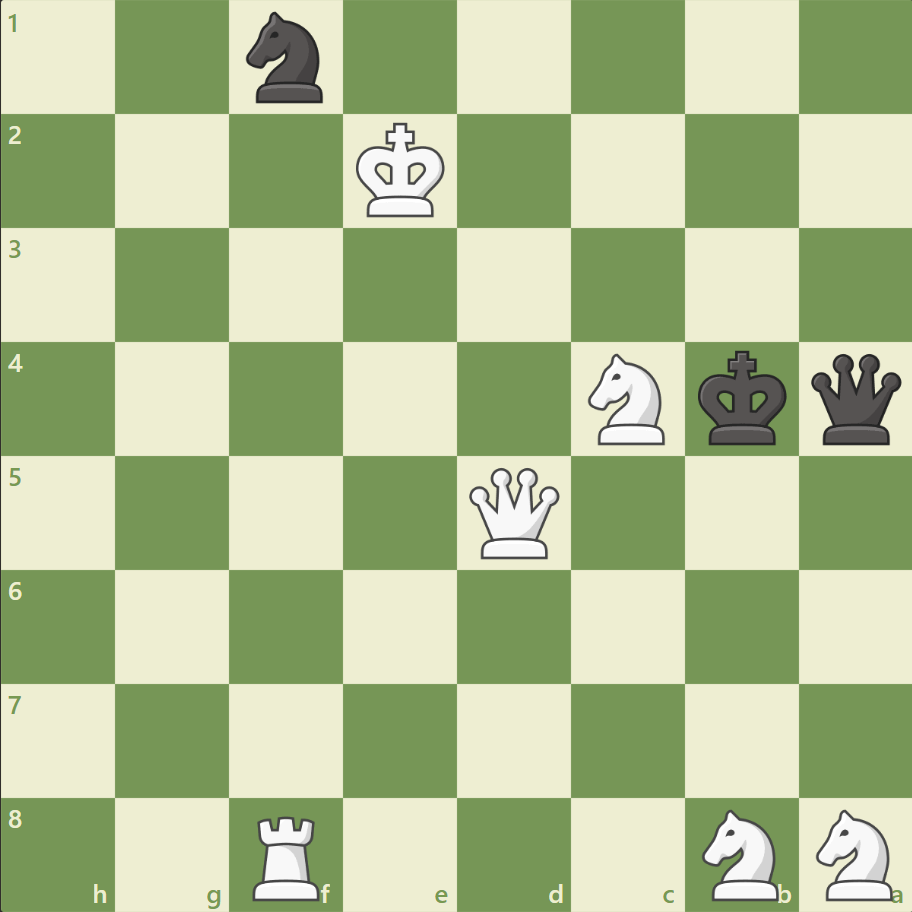K: (351, 117, 451, 225)
N: (806, 802, 903, 904), (692, 802, 789, 904), (579, 348, 676, 450)
Q: (464, 463, 563, 562)
R: (246, 806, 329, 904)
k: (692, 344, 792, 452)
n: (238, 7, 335, 110)
q: (805, 349, 904, 449)
